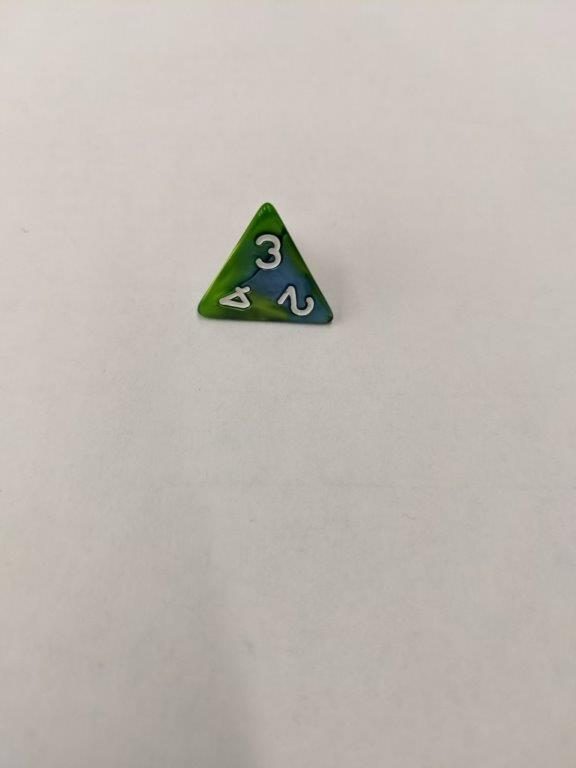d4-3: (192, 200, 336, 332)
